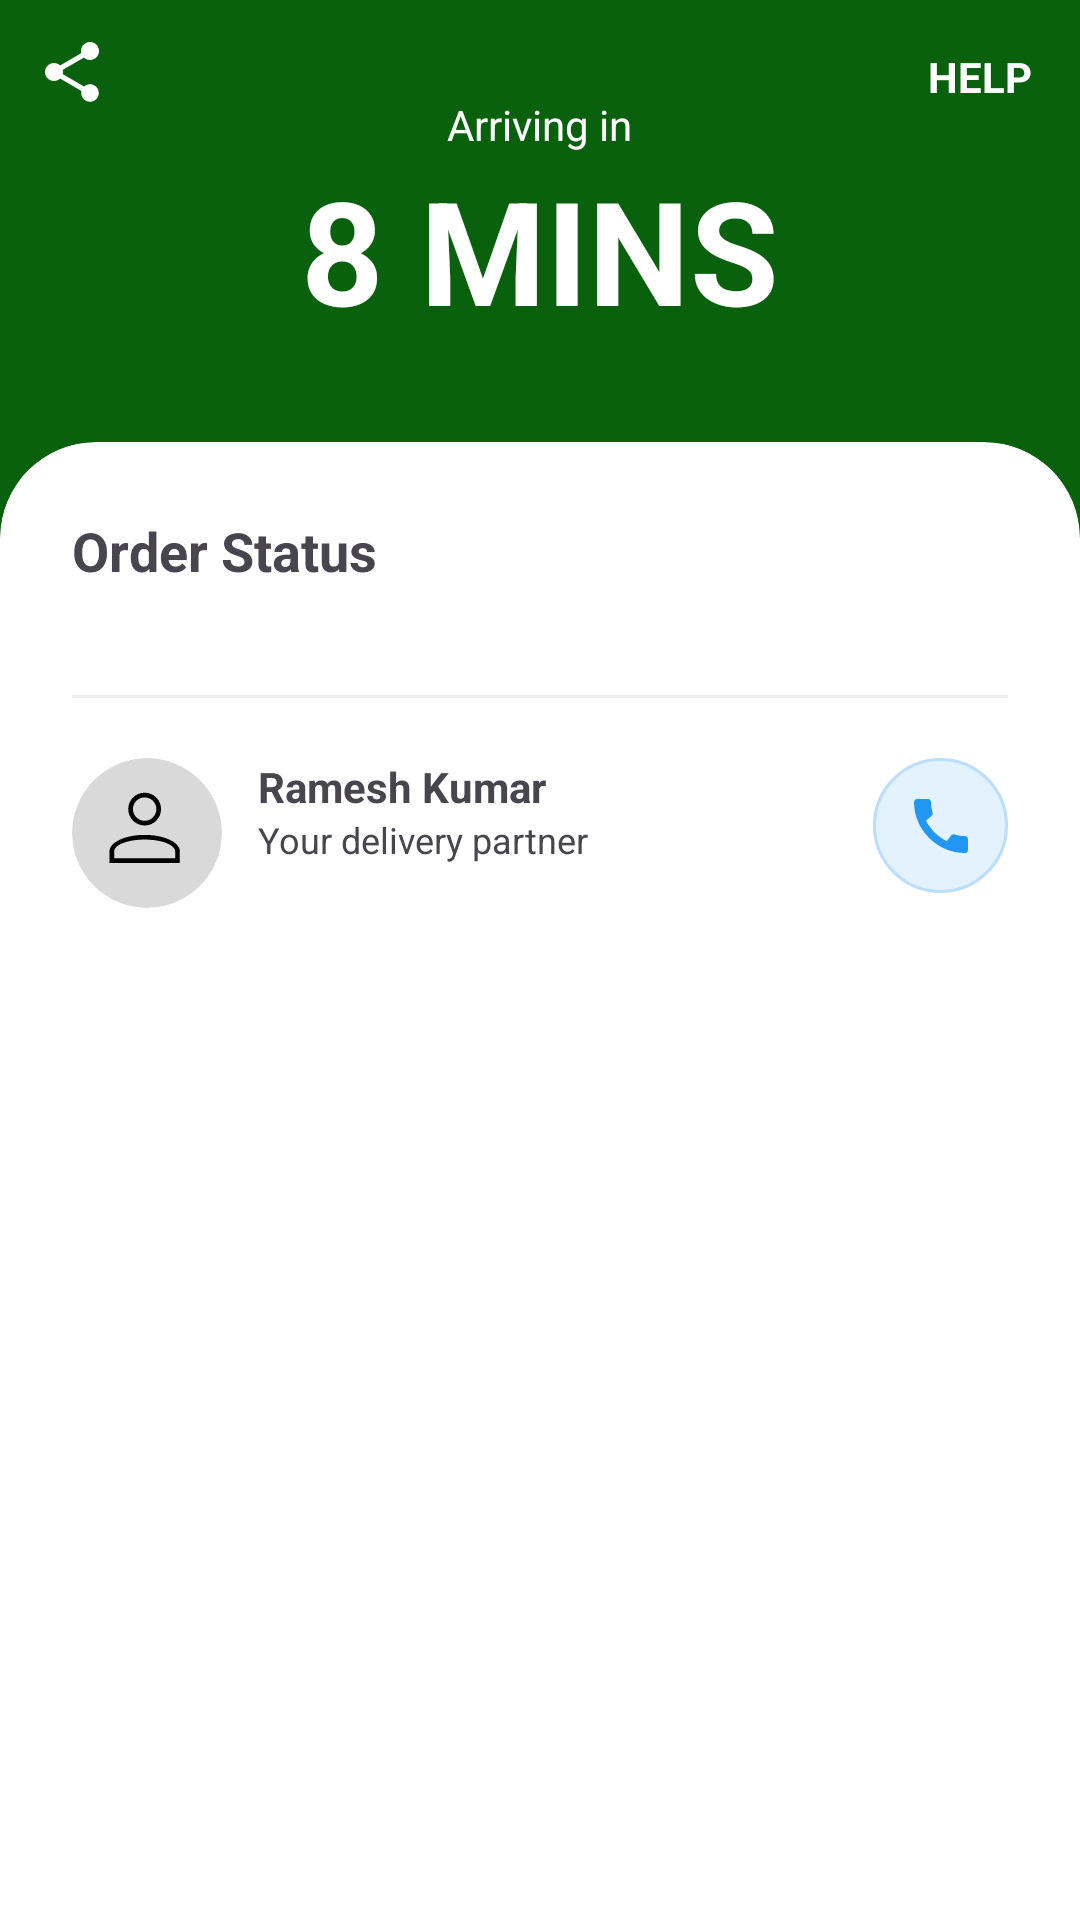

Locate icon controls on the screen. Image size 1080px x 1920px, boxes as [x1,y1,x2,y2].
call: [873,758,1008,893]
share: [45,42,99,102]
user: [72,758,222,908]
